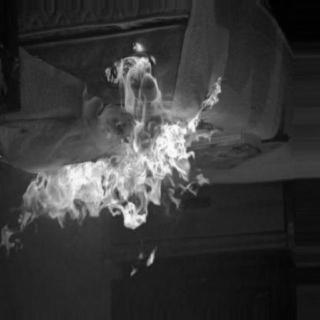Fire: (108, 37, 200, 166)
